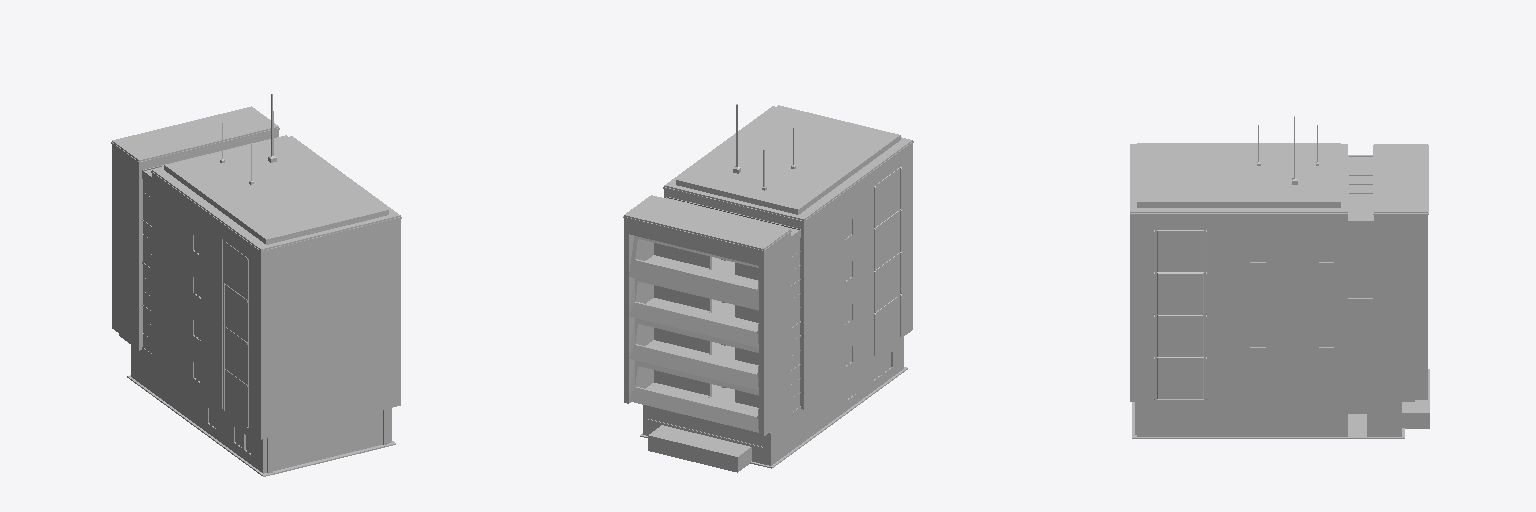
File: Array House Example_obj.obj
The picture shows the model from 3 angles: view 1: azimuth 30°, elevation 25°; view 2: azimuth 150°, elevation 25°; view 3: azimuth 270°, elevation 25°; orthographic projection.
Parts seen in each view (by area): view 1: Cube.041_Cube.060, Cube.044_Cube.059, Cube.043_Cube.059, Cube.040_Cube.059, Cube.039_Cube.056; view 2: Cube.041_Cube.060, Cube.043_Cube.059, Cube.040_Cube.059, Cube.044_Cube.059, Cube.039_Cube.056; view 3: Cube.041_Cube.060, Cube.044_Cube.059, Cube.040_Cube.059, Cube.043_Cube.059, Cube.039_Cube.056.
Boxes of the visible parts, box(x1,y1,x2,y2) form: Cube.041_Cube.060: box(111, 94, 401, 309); Cube.044_Cube.059: box(112, 201, 400, 351); Cube.043_Cube.059: box(112, 244, 400, 394); Cube.040_Cube.059: box(112, 286, 400, 436); Cube.039_Cube.056: box(119, 334, 400, 476); Cube.041_Cube.060: box(623, 104, 913, 309); Cube.043_Cube.059: box(624, 243, 912, 393); Cube.040_Cube.059: box(624, 286, 912, 436); Cube.044_Cube.059: box(624, 201, 912, 351); Cube.039_Cube.056: box(640, 328, 912, 472); Cube.041_Cube.060: box(1130, 116, 1428, 271); Cube.044_Cube.059: box(1130, 271, 1427, 314); Cube.040_Cube.059: box(1130, 356, 1427, 399); Cube.043_Cube.059: box(1130, 313, 1427, 356); Cube.039_Cube.056: box(1130, 369, 1429, 438).
Size of the model in its own units: 12.59 by 25.59 by 23.1.